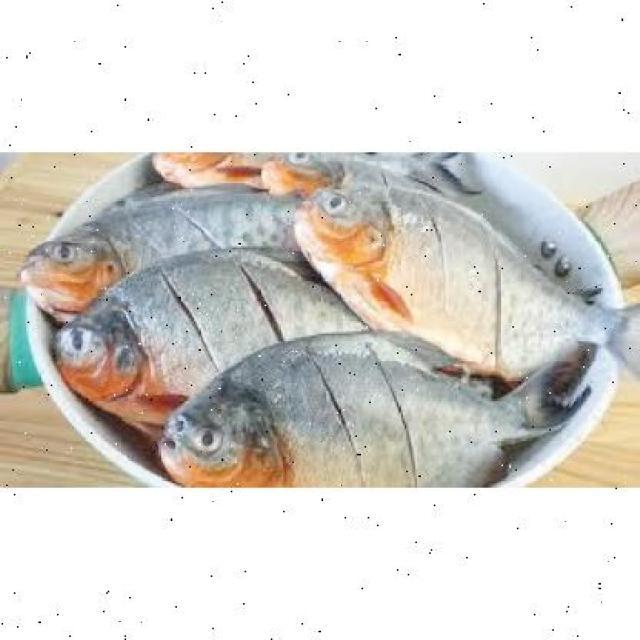ikan-pacu: (159, 336, 561, 486), (292, 180, 606, 358), (51, 260, 300, 420), (24, 188, 252, 304)
